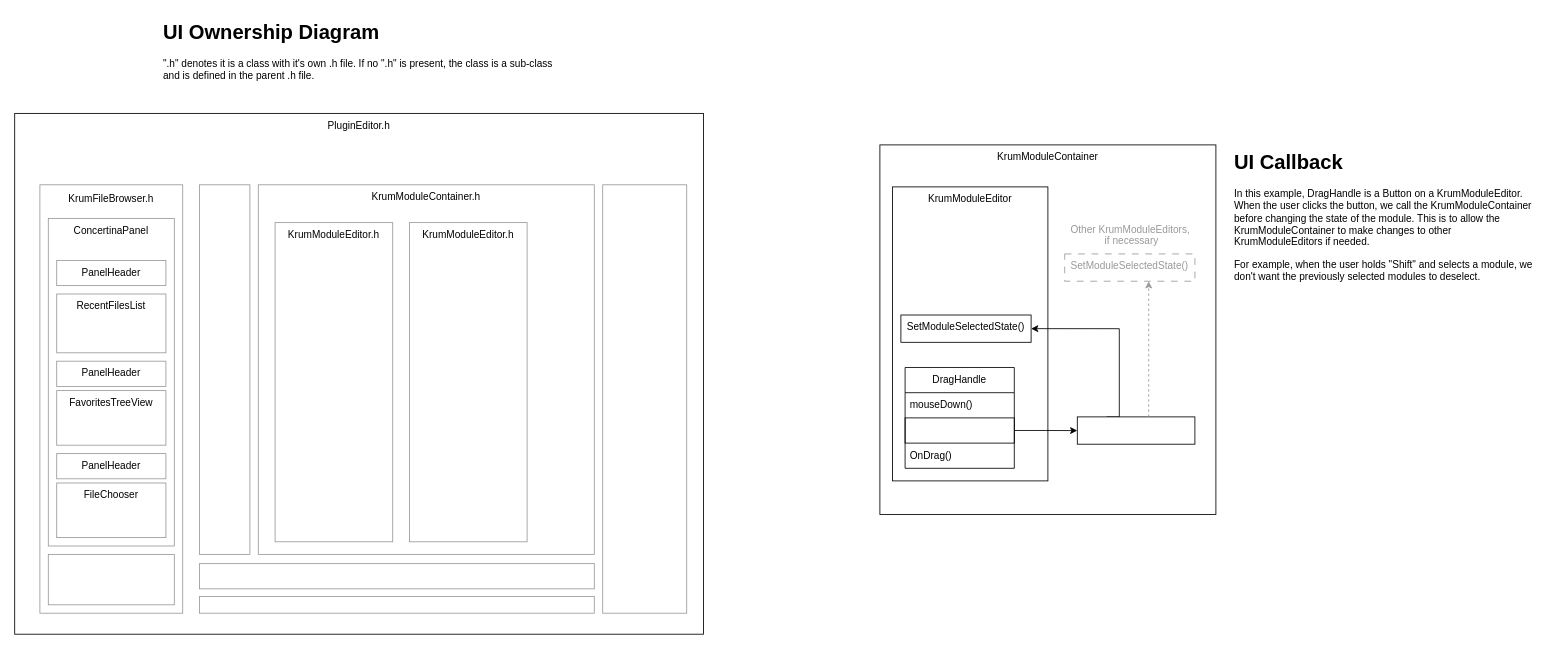
Some shapes in this 1550 by 648 pixel diagram are drawn without their labels. The centre of each missing label's shape, as x and y in pixels:
AudioPreviewer.h: the point at 110,579
DropSampleArea: the point at 224,369
InfoPanel.h: the point at 396,604
KrumKeyboard.h: the point at 396,576
mouseUp(): the point at 959,430
OutputGainSlider: the point at 644,398
SetModuleSelected(): the point at 1135,430
